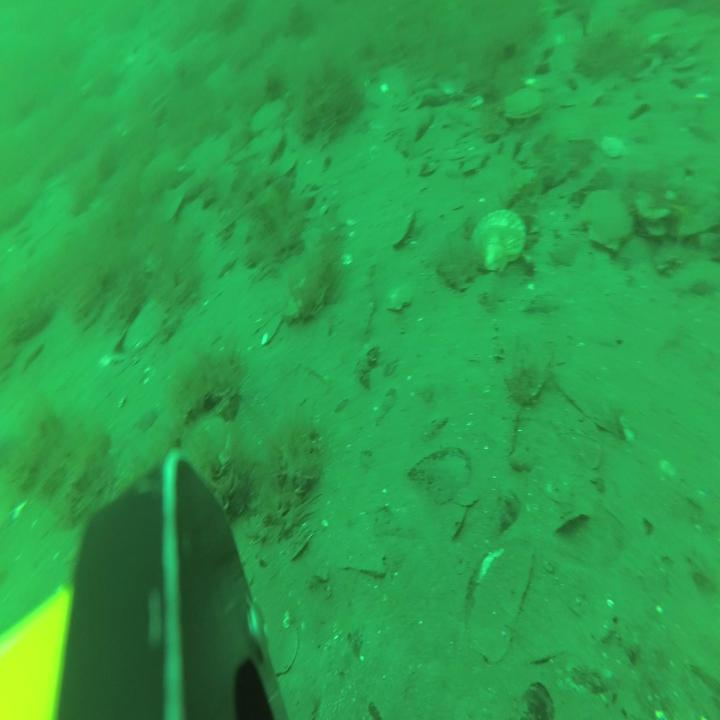scallop: (577, 183, 634, 259), (472, 209, 527, 280), (123, 293, 168, 358), (500, 86, 547, 122), (249, 98, 287, 137), (382, 275, 417, 314)
